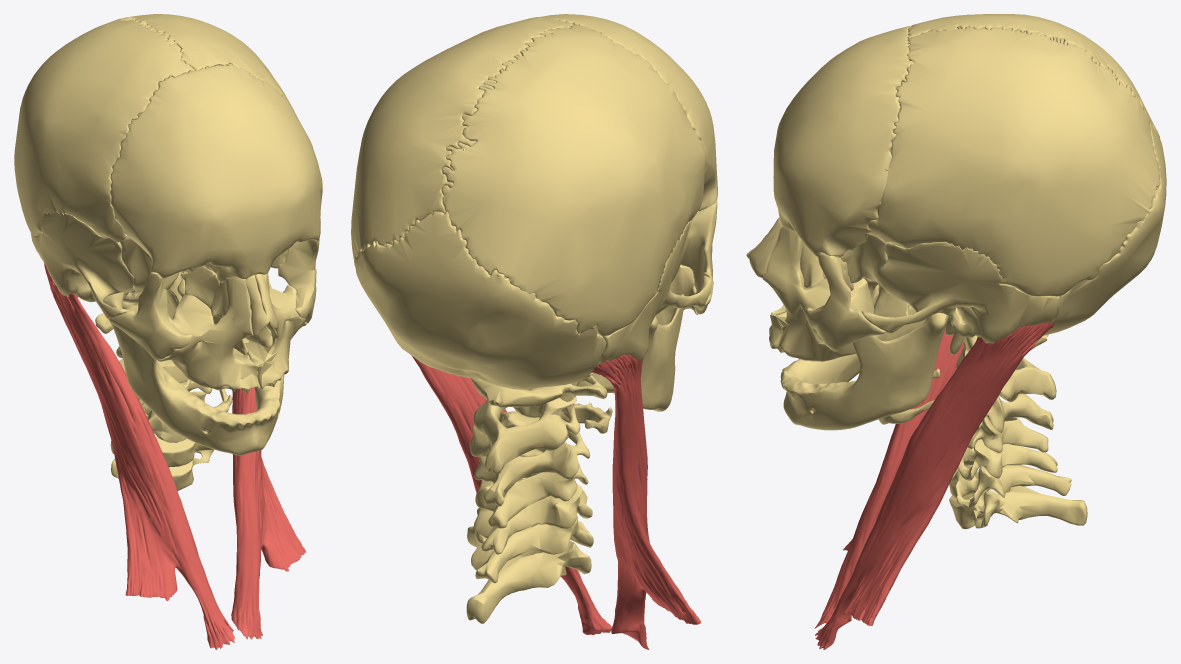
The model's file is head-neck.glb.
The picture shows the model from 3 angles, left to right: view 1: azimuth 30°, elevation 25°; view 2: azimuth 150°, elevation 25°; view 3: azimuth 270°, elevation 25°; orthographic projection. The views are drawn at different scales.
Parts seen in each view (by area): view 1: head-neck:frontal-bone:isa:FJ3200, head-neck:parietal-bone:isa:FJ3380, head-neck:sternocleidomastoid:isa:FJ1595, head-neck:mandible:isa:FJ3289, head-neck:sternocleidomastoid:isa:FJ1573, head-neck:maxilla:isa:FJ3375, head-neck:temporal-bone:isa:FJ3386, head-neck:parietal-bone:isa:FJ3274, head-neck:zygomatic-bone:isa:FJ3392, head-neck:maxilla:isa:FJ3269, head-neck:zygomatic-bone:isa:FJ3287, head-neck:sphenoid-bone:isa:FJ3394 (+7 smaller); view 2: head-neck:parietal-bone:isa:FJ3380, head-neck:occiput:isa:FJ3309, head-neck:parietal-bone:isa:FJ3274, head-neck:sternocleidomastoid:isa:FJ1595, head-neck:frontal-bone:isa:FJ3200, head-neck:axis:isa:FJ3177, head-neck:seventh-cervical-vertebra:isa:FJ3172, head-neck:sternocleidomastoid:isa:FJ1573, head-neck:third-cervical-vertebra:isa:FJ3161, head-neck:temporal-bone:isa:FJ3386, head-neck:mandible:isa:FJ3289, head-neck:sixth-cervical-vertebra:isa:FJ3170 (+6 smaller); view 3: head-neck:parietal-bone:isa:FJ3274, head-neck:frontal-bone:isa:FJ3200, head-neck:sternocleidomastoid:isa:FJ1573, head-neck:mandible:isa:FJ3289, head-neck:temporal-bone:isa:FJ3281, head-neck:maxilla:isa:FJ3269, head-neck:occiput:isa:FJ3309, head-neck:sternocleidomastoid:isa:FJ1595, head-neck:parietal-bone:isa:FJ3380, head-neck:seventh-cervical-vertebra:isa:FJ3172, head-neck:zygomatic-bone:isa:FJ3287, head-neck:sixth-cervical-vertebra:isa:FJ3170 (+7 smaller).
Boxes of the visible parts, x1,y1,x2,y2 form: head-neck:frontal-bone:isa:FJ3200: [110, 63, 322, 282]; head-neck:parietal-bone:isa:FJ3380: [14, 17, 194, 242]; head-neck:sternocleidomastoid:isa:FJ1595: [44, 263, 234, 649]; head-neck:mandible:isa:FJ3289: [103, 279, 284, 455]; head-neck:sternocleidomastoid:isa:FJ1573: [231, 387, 305, 639]; head-neck:maxilla:isa:FJ3375: [158, 276, 260, 393]; head-neck:temporal-bone:isa:FJ3386: [31, 211, 134, 324]; head-neck:parietal-bone:isa:FJ3274: [120, 14, 297, 117]; head-neck:zygomatic-bone:isa:FJ3392: [109, 272, 192, 360]; head-neck:maxilla:isa:FJ3269: [234, 272, 306, 388]; head-neck:zygomatic-bone:isa:FJ3287: [278, 238, 319, 323]; head-neck:sphenoid-bone:isa:FJ3394: [120, 235, 288, 319]; head-neck:parietal-bone:isa:FJ3380: [441, 24, 706, 336]; head-neck:occiput:isa:FJ3309: [354, 211, 605, 389]; head-neck:parietal-bone:isa:FJ3274: [351, 16, 573, 267]; head-neck:sternocleidomastoid:isa:FJ1595: [591, 354, 700, 649]; head-neck:frontal-bone:isa:FJ3200: [542, 14, 717, 211]; head-neck:axis:isa:FJ3177: [473, 388, 580, 473]; head-neck:seventh-cervical-vertebra:isa:FJ3172: [466, 526, 591, 623]; head-neck:sternocleidomastoid:isa:FJ1573: [411, 355, 611, 635]; head-neck:third-cervical-vertebra:isa:FJ3161: [469, 411, 589, 506]; head-neck:temporal-bone:isa:FJ3386: [592, 218, 712, 372]; head-neck:mandible:isa:FJ3289: [578, 294, 683, 411]; head-neck:sixth-cervical-vertebra:isa:FJ3170: [474, 508, 593, 583]; head-neck:parietal-bone:isa:FJ3274: [868, 26, 1160, 296]; head-neck:frontal-bone:isa:FJ3200: [773, 25, 913, 256]; head-neck:sternocleidomastoid:isa:FJ1573: [815, 321, 1054, 649]; head-neck:mandible:isa:FJ3289: [780, 305, 948, 430]; head-neck:temporal-bone:isa:FJ3281: [861, 242, 1059, 354]; head-neck:maxilla:isa:FJ3269: [762, 227, 874, 361]; head-neck:occiput:isa:FJ3309: [1043, 122, 1166, 335]; head-neck:sternocleidomastoid:isa:FJ1595: [814, 330, 964, 628]; head-neck:parietal-bone:isa:FJ3380: [907, 14, 1159, 137]; head-neck:seventh-cervical-vertebra:isa:FJ3172: [949, 486, 1087, 529]; head-neck:zygomatic-bone:isa:FJ3287: [805, 252, 885, 351]; head-neck:sixth-cervical-vertebra:isa:FJ3170: [949, 439, 1071, 507].
Bounding box in the file's own units: 0.151 × 0.3343 × 0.2088.
